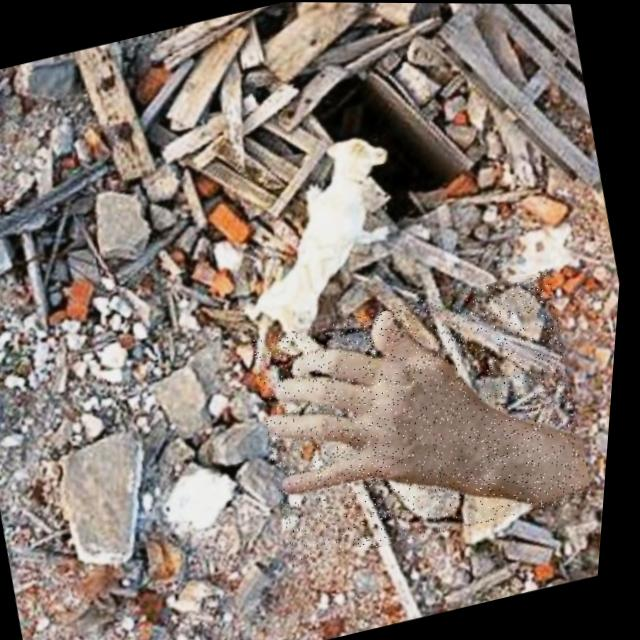Person in Rubble: (243, 267, 612, 569)
